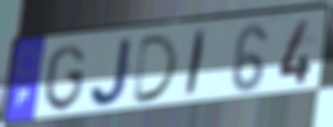4: (276, 17, 313, 88)
6: (229, 21, 269, 96)
D: (130, 32, 181, 107)
G: (42, 42, 88, 113)
I: (182, 28, 210, 101)
J: (88, 36, 136, 110)
